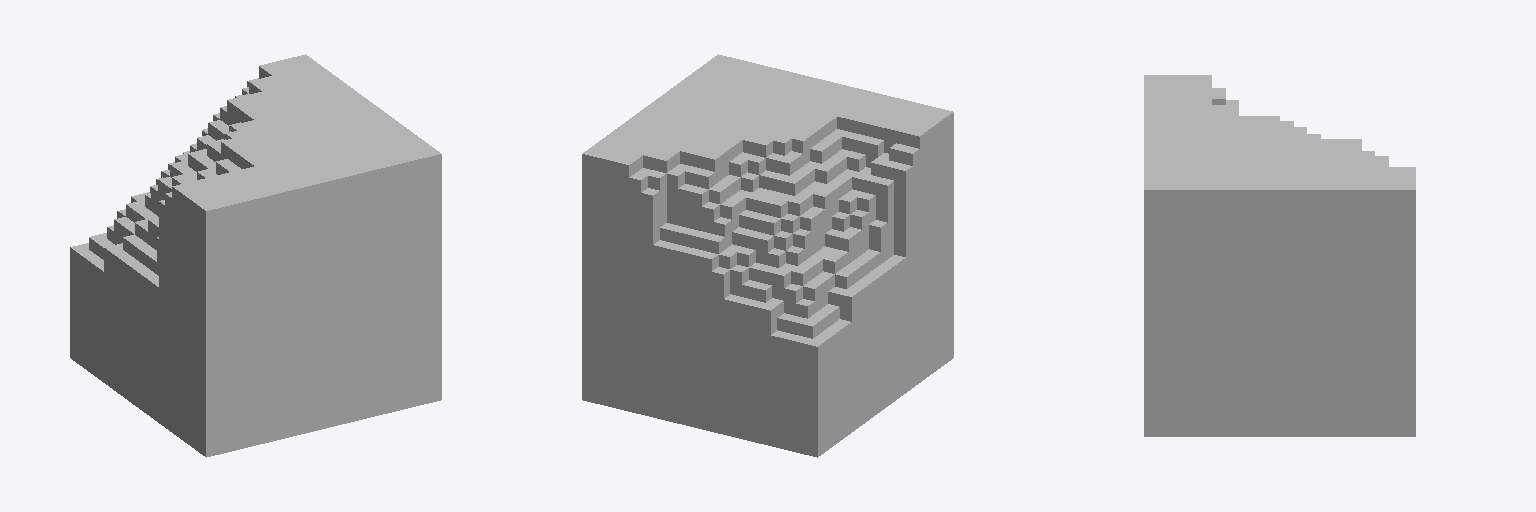
The model's file is ruin_damagedcorner.obj.
3 views of the same model, side by side, from view 1: azimuth 30°, elevation 25°; view 2: azimuth 150°, elevation 25°; view 3: azimuth 270°, elevation 25° (orthographic).
Parts seen in each view (by area): view 1: ruin_damagedtop; view 2: ruin_damagedtop; view 3: ruin_damagedtop.
Part boxes in pixels (x1,y1,x2,y2): ruin_damagedtop: (70, 54, 441, 457); ruin_damagedtop: (582, 54, 953, 457); ruin_damagedtop: (1144, 75, 1415, 436).
Size of the model in its own units: 20 by 20 by 20.